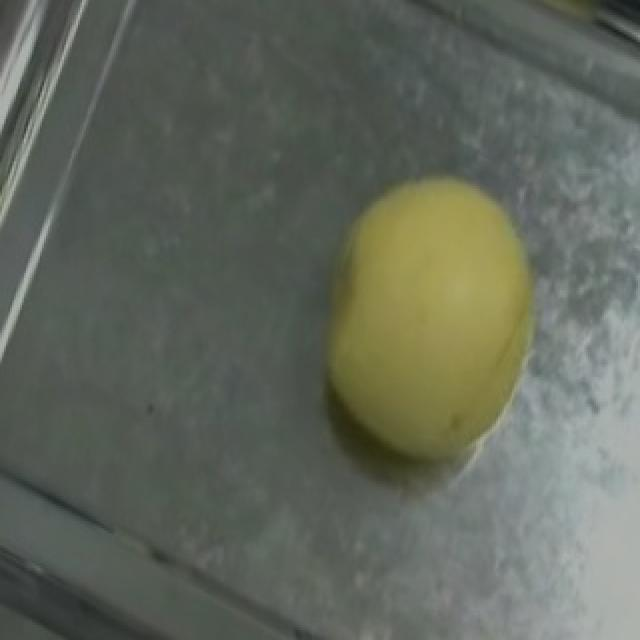Fruit: (274, 136, 582, 498)
